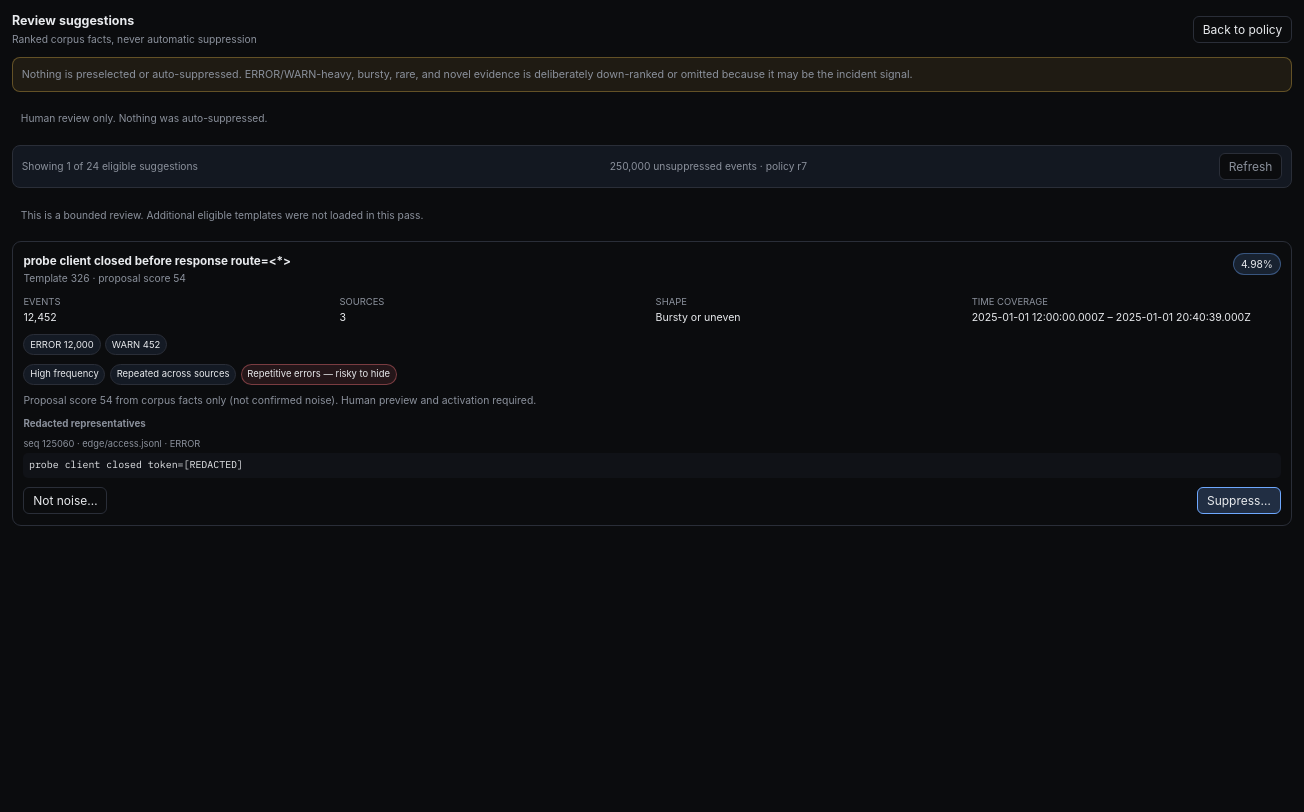
NoiseCandidateReview › keeps a candidate visible when its reviewed dismissal cannot be recorded
Click the button "Not noise…". click: x=65, y=501
box: [23, 487, 107, 514]
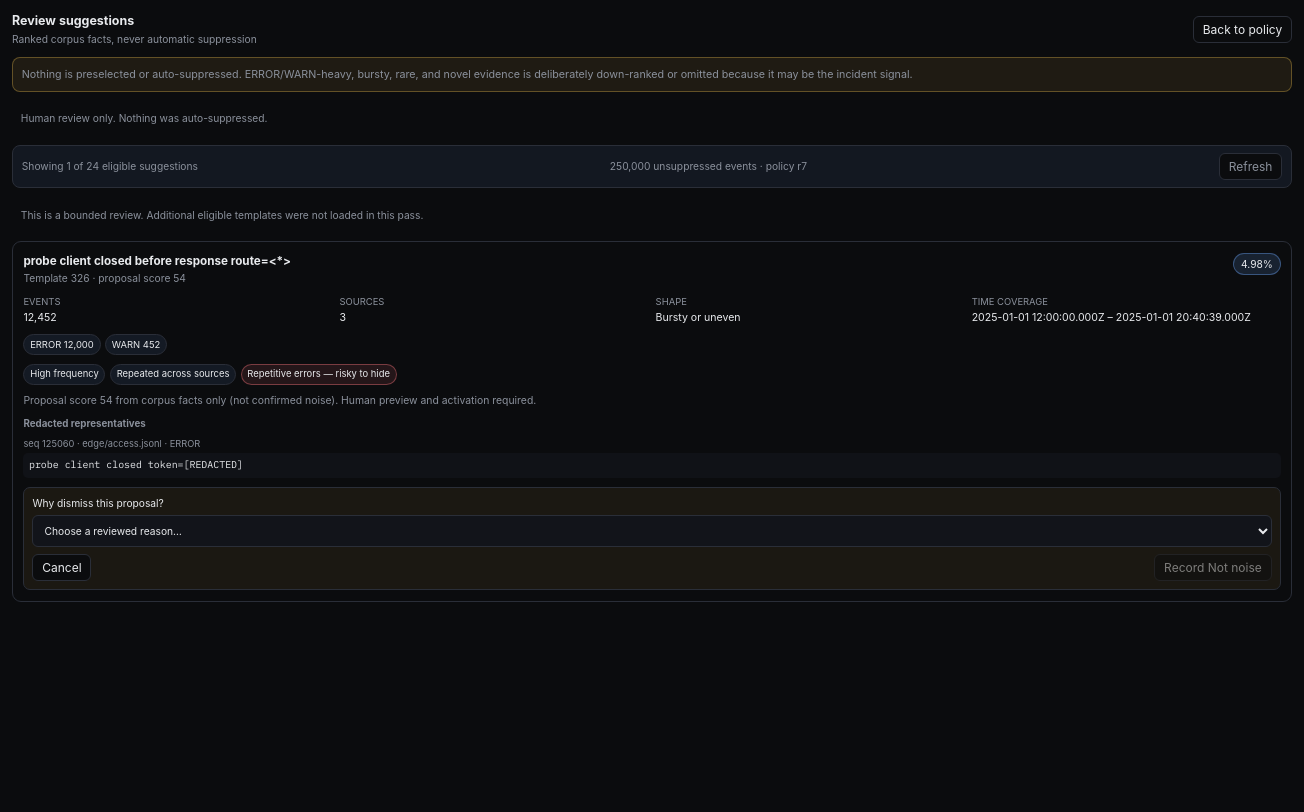
Select "Insufficient evidence" in the dropdown labelled "Why dismiss this proposal?". click: x=652, y=531
box: [32, 515, 1272, 547]
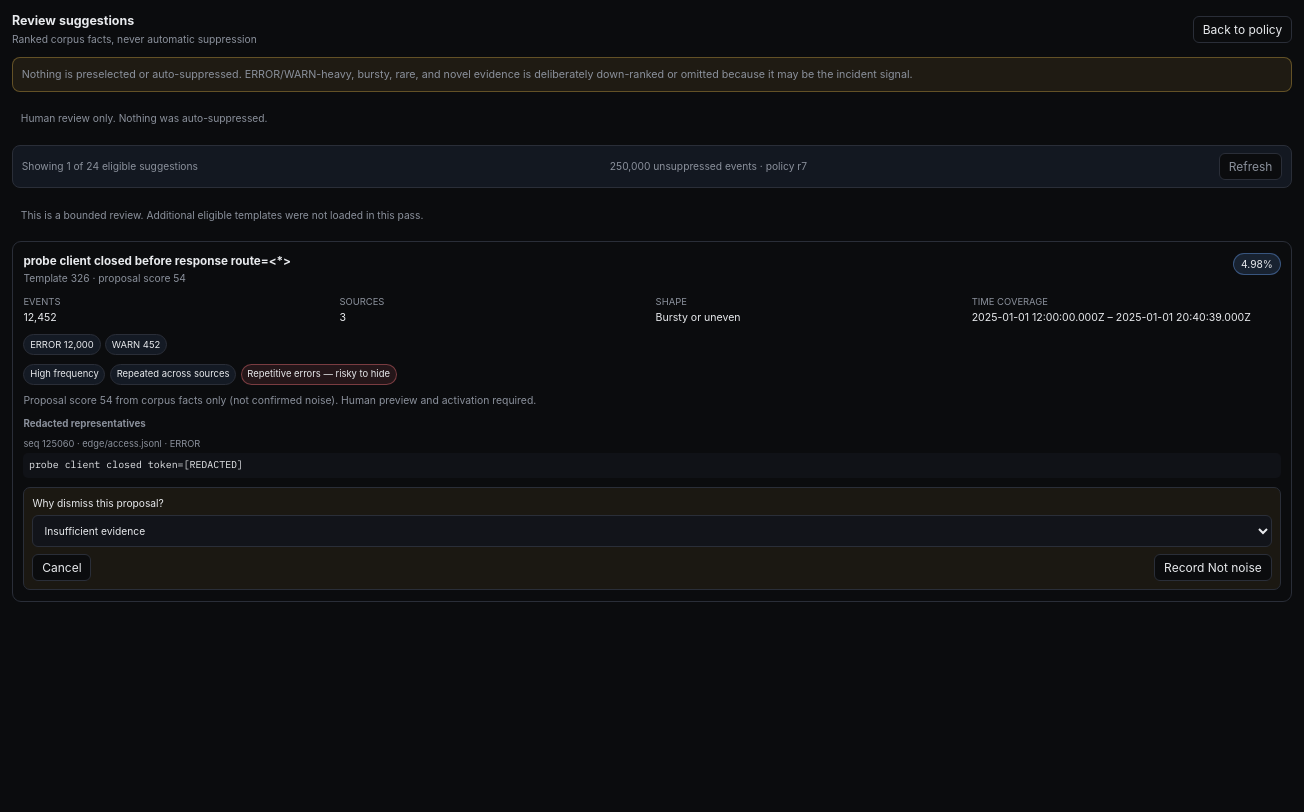
Click the button "Record Not noise". click: x=1213, y=568
box: [1154, 554, 1272, 581]
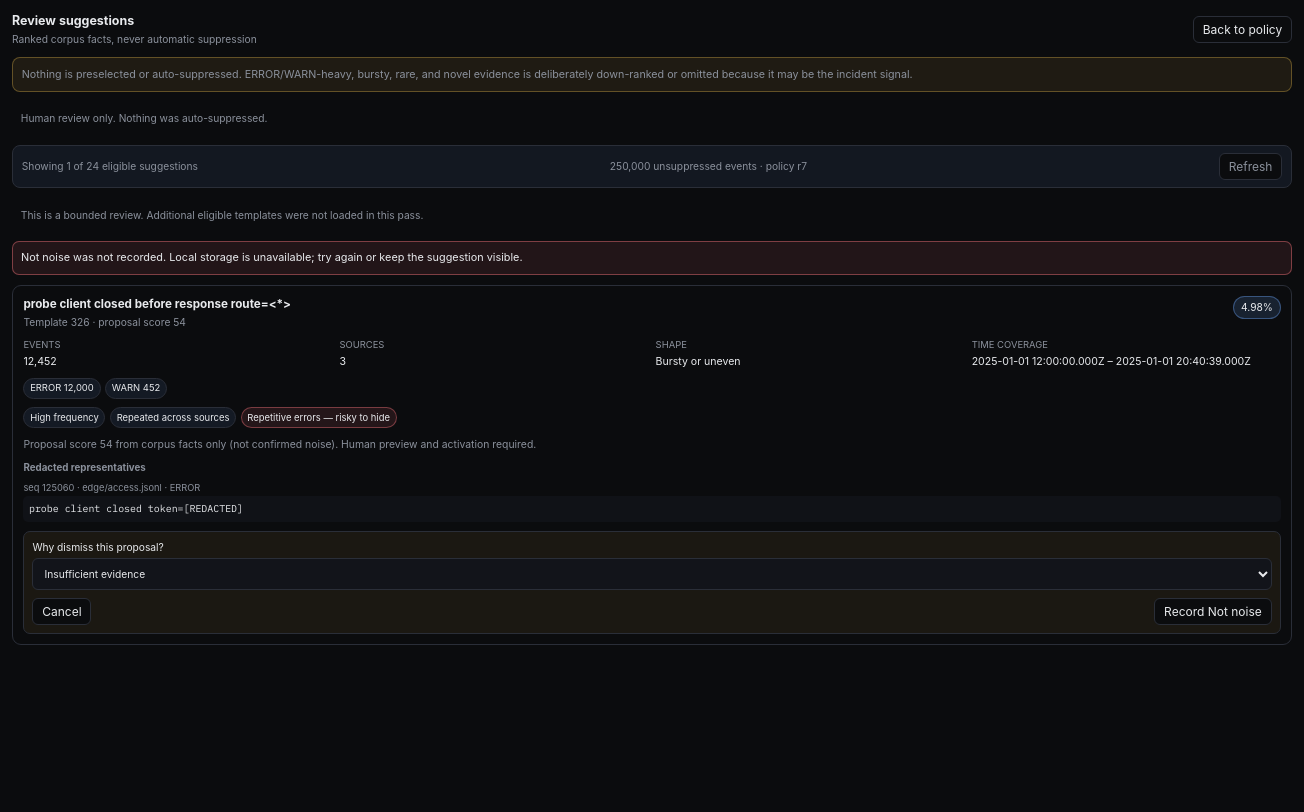
Expected: the text "probe client closed before response route=<*>" is shown, [23, 296, 291, 313]
Expected: the 2nd message shows "Not noise was not recorded", [21, 250, 522, 264]
